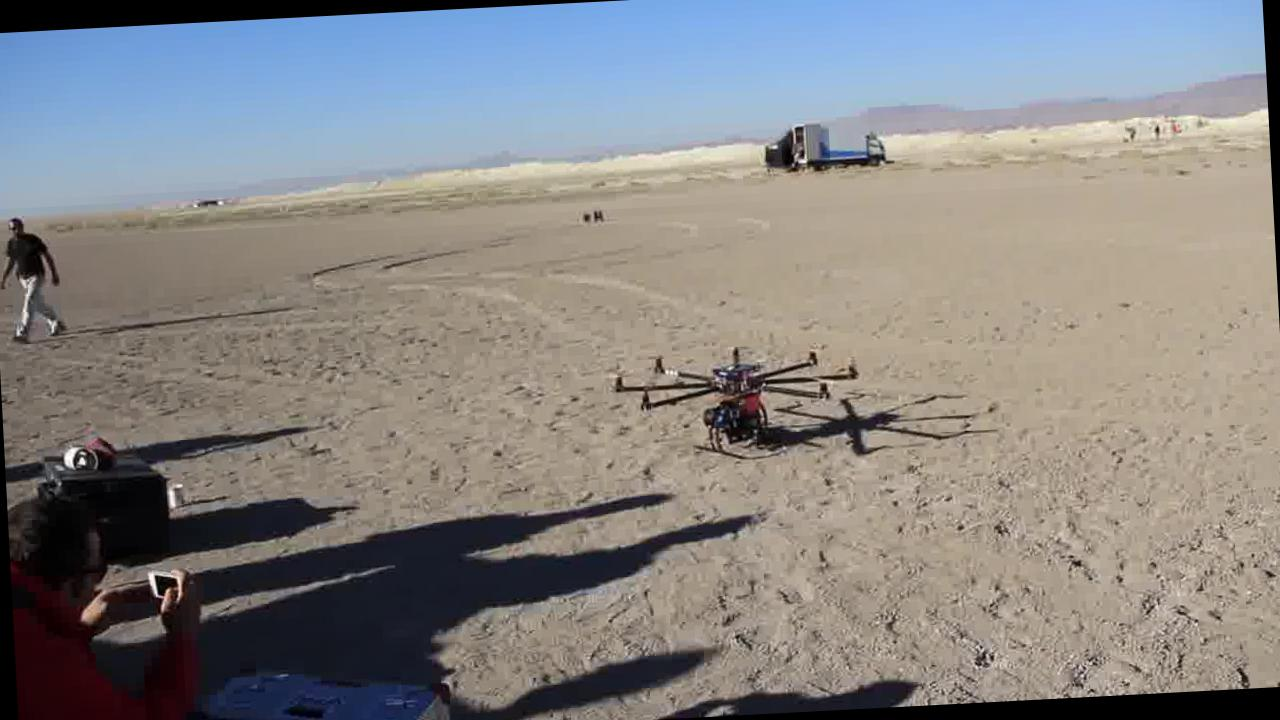drone: (602, 334, 867, 461)
